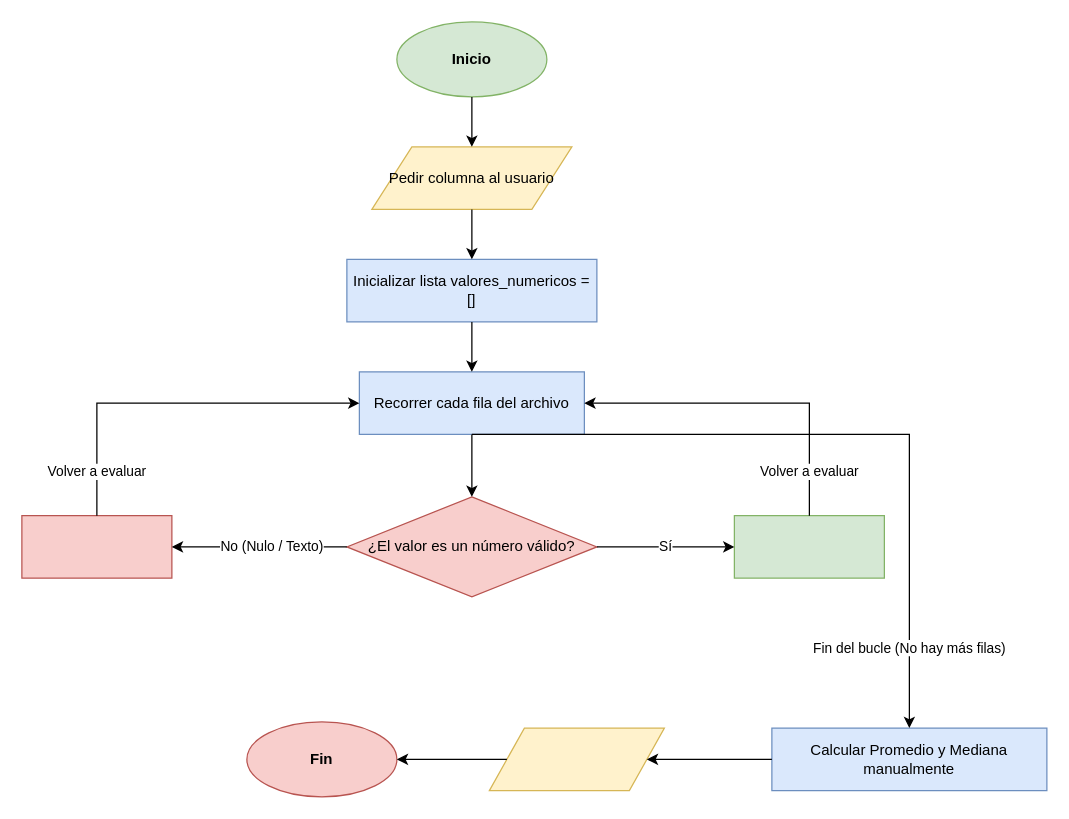
Image size: 1069x819. Some labels were removed from this diagram. Each missing label, with the centre of its shape:
"Agregar a la lista" goes at pixel 808 546.
"Ignorar y continuar" goes at pixel 96 546.
"Mostrar resultados" goes at pixel 576 759.
